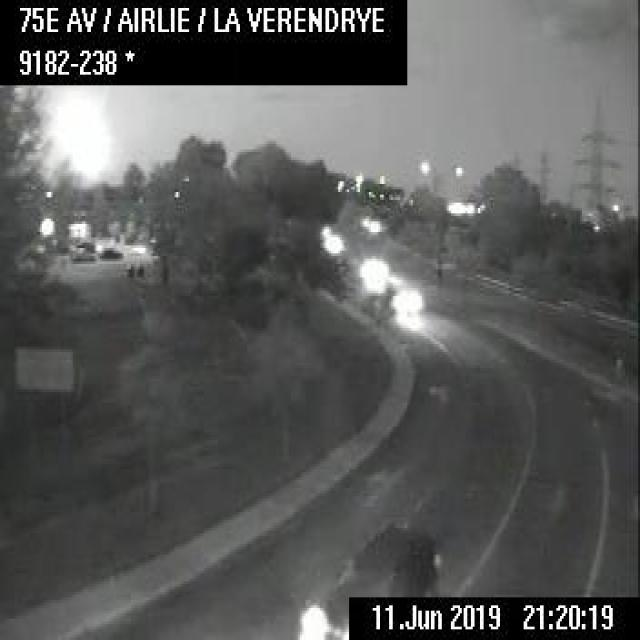vehicle: (291, 515, 442, 637), (390, 285, 424, 320), (97, 241, 122, 259), (68, 245, 94, 262)
